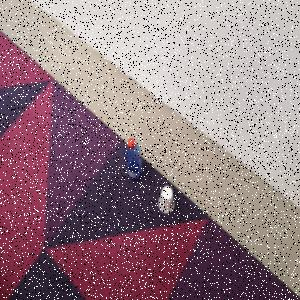Cup: (160, 187, 176, 215)
Plastic-bottle: (126, 139, 144, 183)
